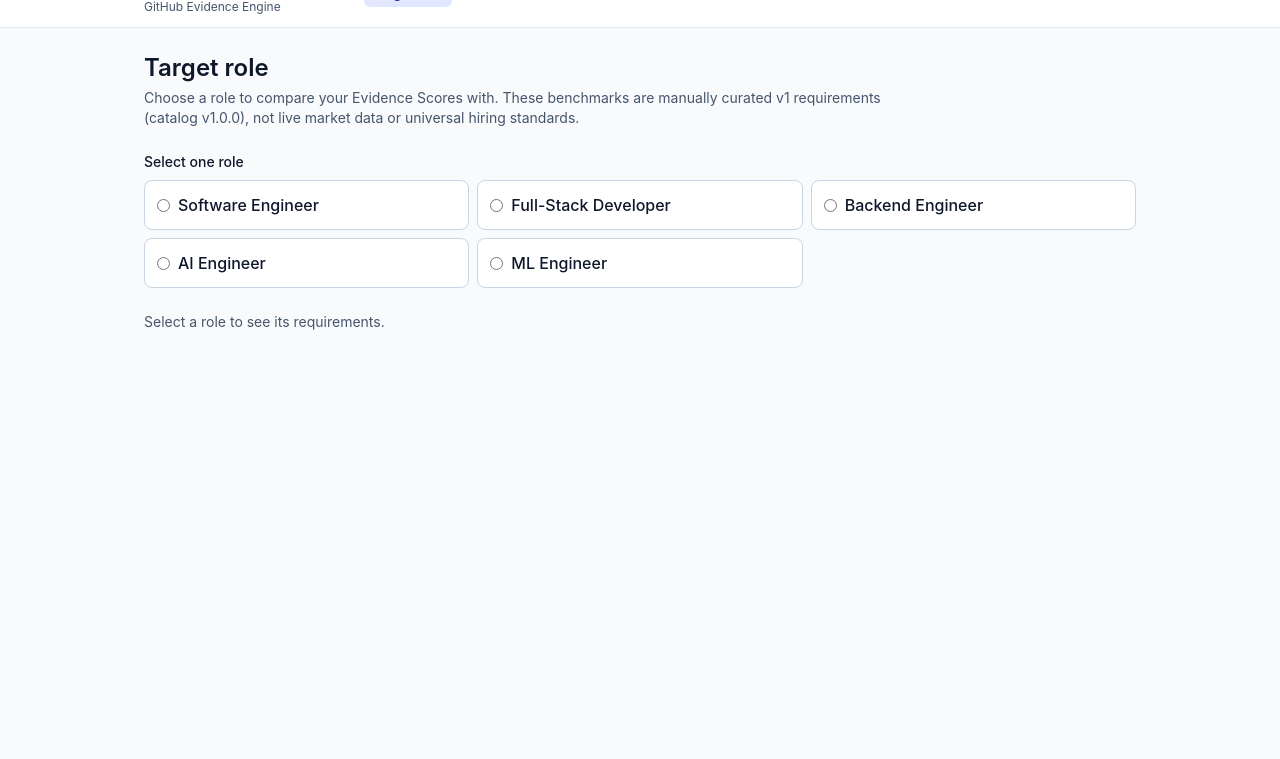
Test: role selection and gap analysis (real App, stubbed network) › renders critical gaps, and treats a score equal to its minimum as met
The image size is (1280, 759).
Expected: the text "Select one role" is shown, left=144, top=152, right=244, bottom=172
Click the radio button labelled "AI Engineer" at coordinates (164, 263), box left=157, top=256, right=170, bottom=270
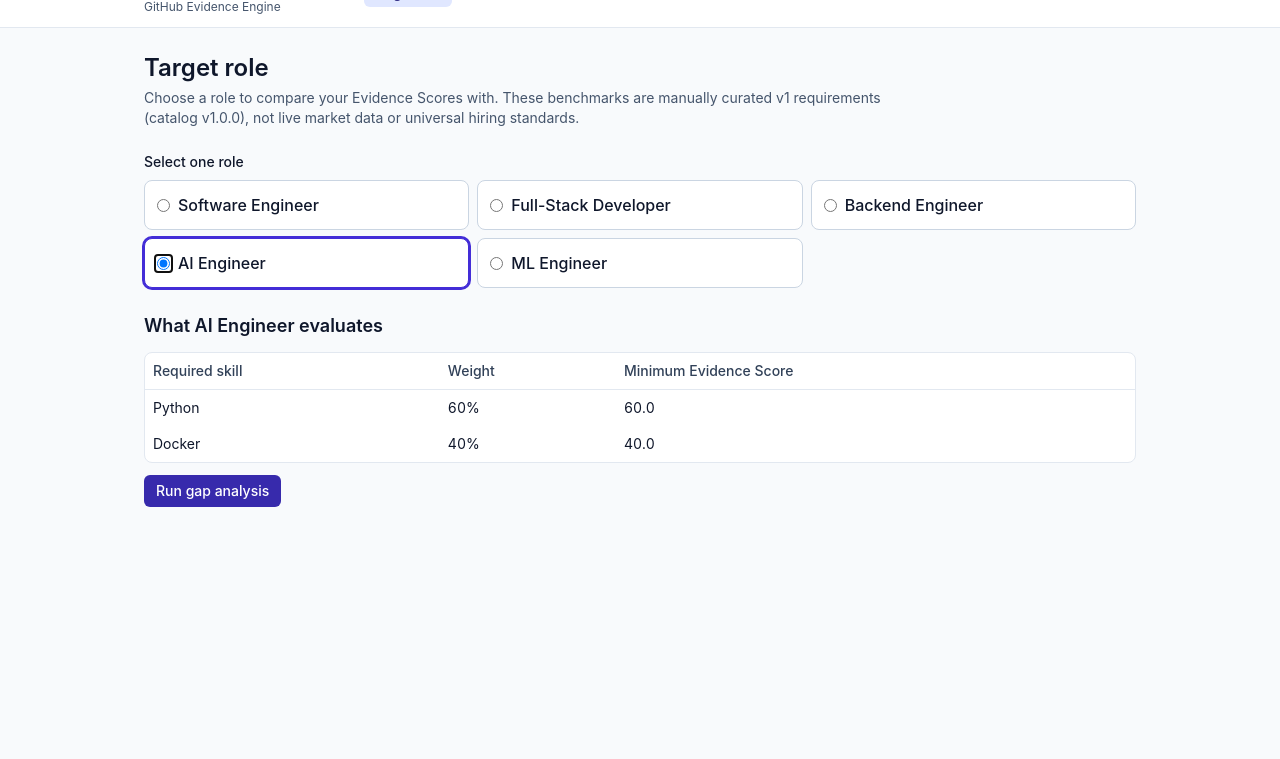
Click the button "Run gap analysis" at coordinates (213, 491), box left=144, top=475, right=281, bottom=507
(page scrolled)
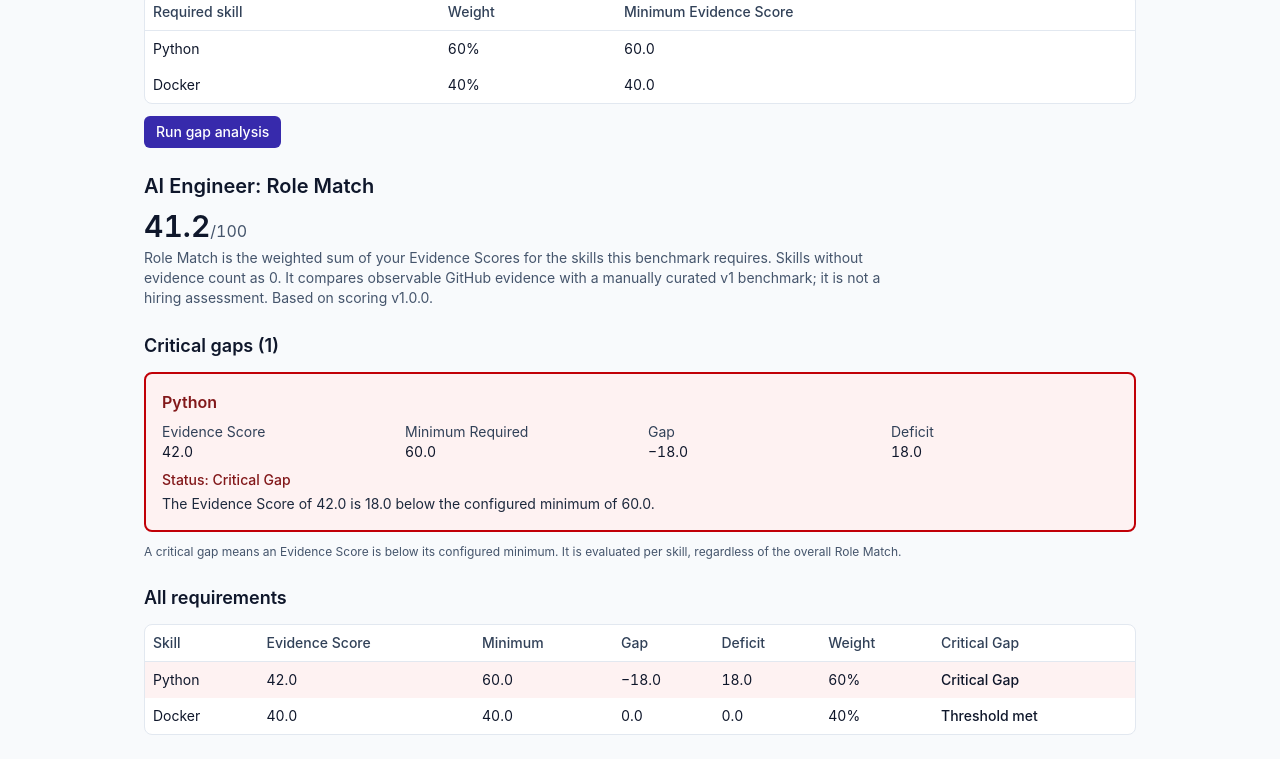
Expected: the heading "Python" is shown, left=162, top=392, right=217, bottom=412
Expected: the text "Status: Critical Gap" is shown, left=162, top=471, right=291, bottom=488
Expected: the text "−18.0" is shown, left=648, top=443, right=688, bottom=460
